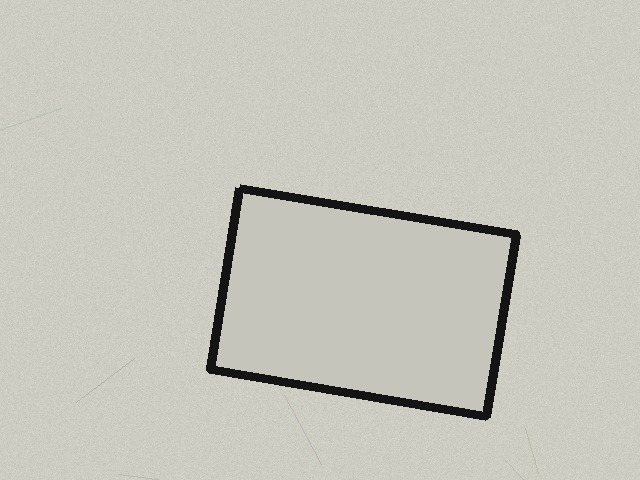parking_area: (210, 188, 516, 416)
